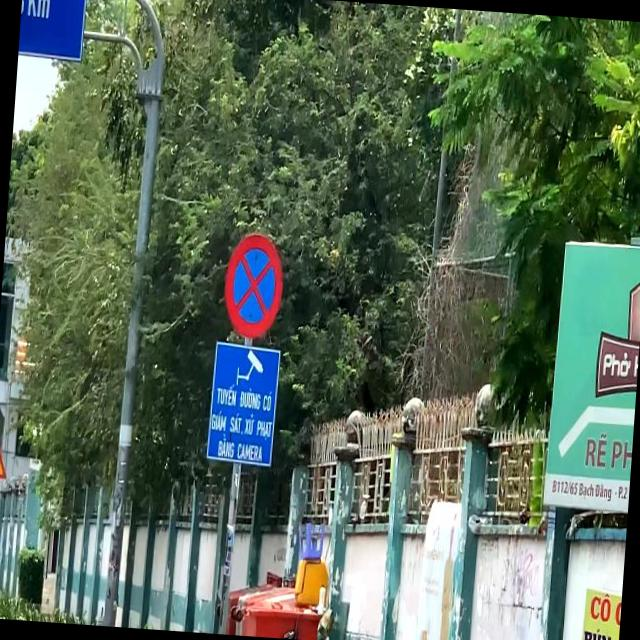P-130: (221, 233, 286, 341)
